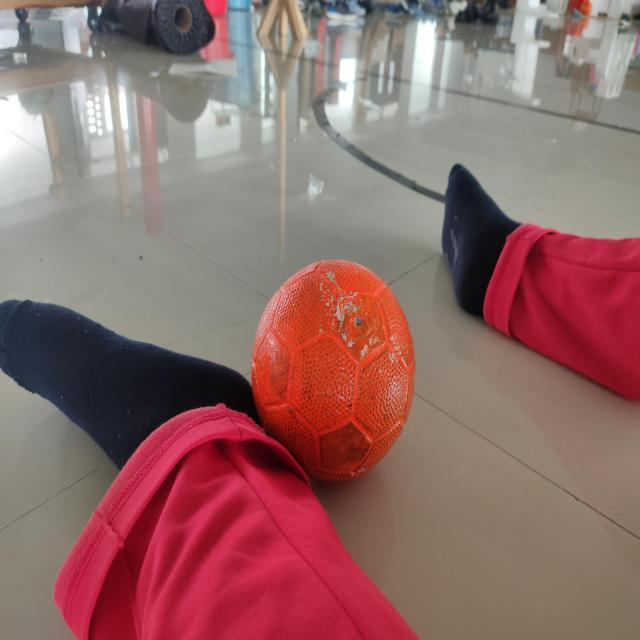bola: (240, 230, 424, 499)
